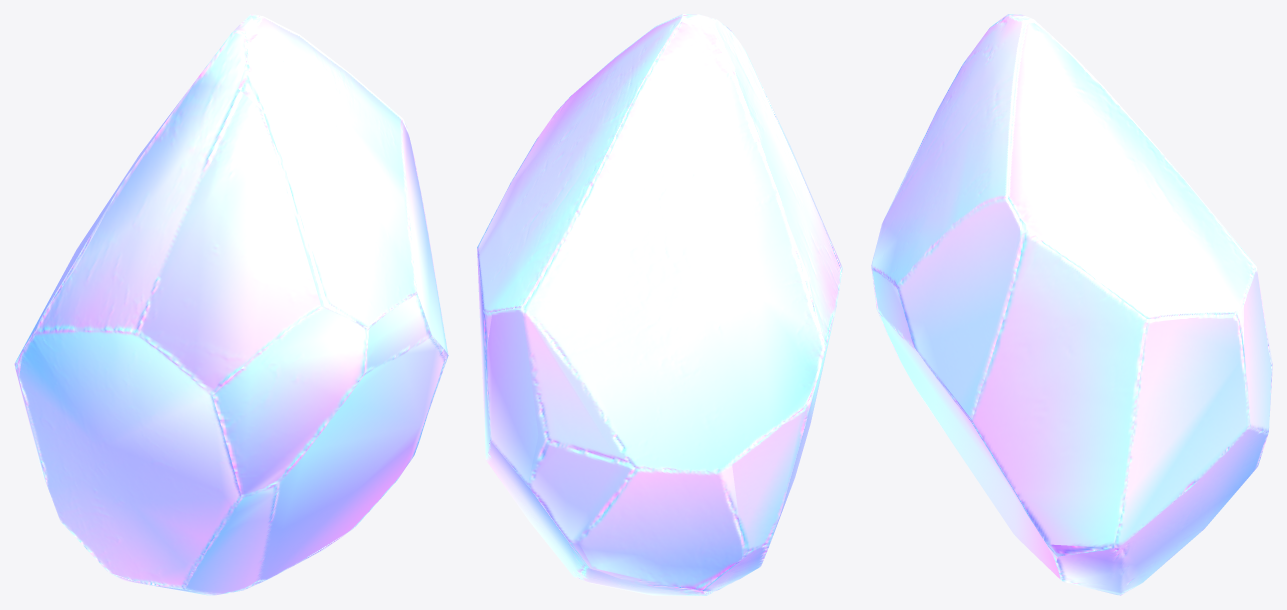
Rendered from Gem Only2.glb.
The picture shows the model from 3 angles, left to right: view 1: azimuth 30°, elevation 25°; view 2: azimuth 150°, elevation 25°; view 3: azimuth 270°, elevation 25°; orthographic projection. The views are drawn at different scales.
Parts seen in each view (by area): view 1: Retopo_gem_1_v2.001; view 2: Retopo_gem_1_v2.001; view 3: Retopo_gem_1_v2.001.
Part boxes in pixels (x1=…): Retopo_gem_1_v2.001: x1=14, y1=14, x2=448, y2=595; Retopo_gem_1_v2.001: x1=477, y1=14, x2=842, y2=595; Retopo_gem_1_v2.001: x1=871, y1=14, x2=1272, y2=595.
Size of the model in its own units: 1.68 by 2.68 by 1.77.
